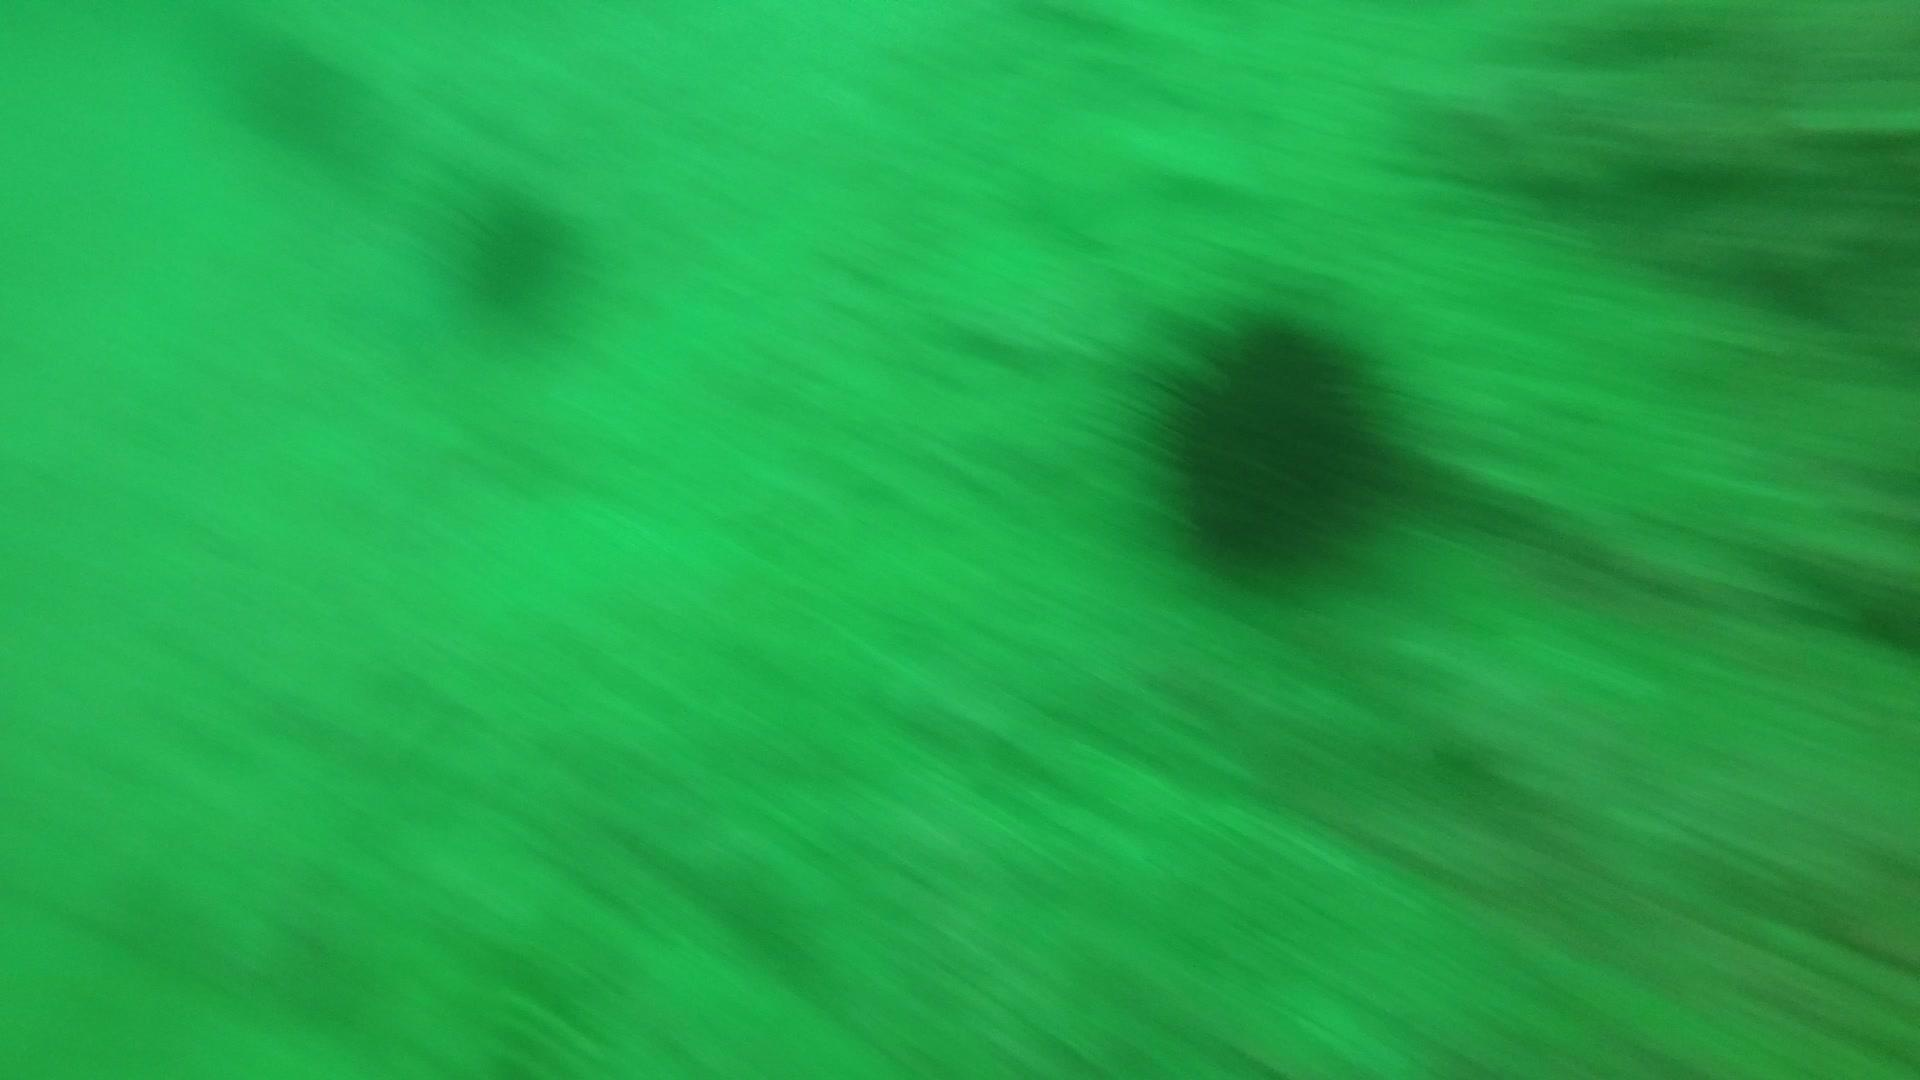echinus: (1127, 301, 1411, 589), (442, 182, 593, 339), (227, 36, 378, 164)
